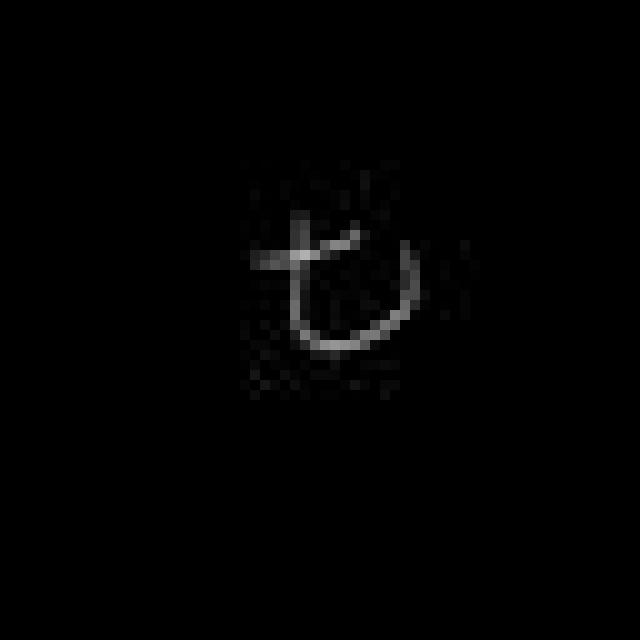7 -seven-: (245, 206, 433, 359)
